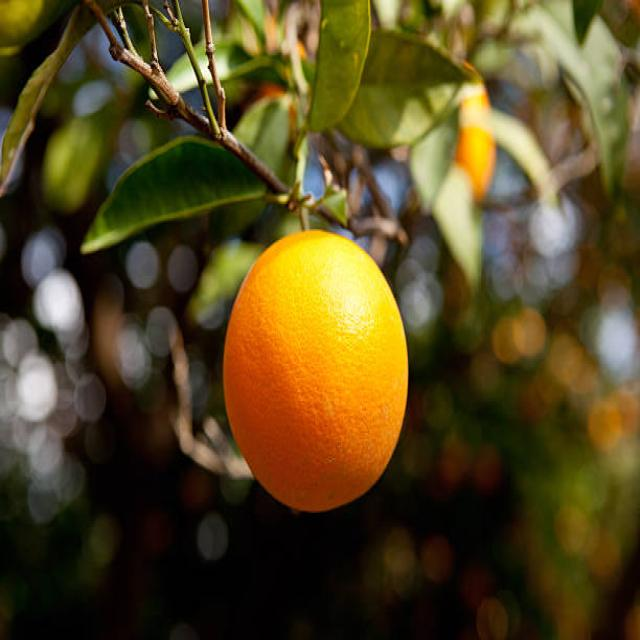orange: (222, 230, 411, 512)
